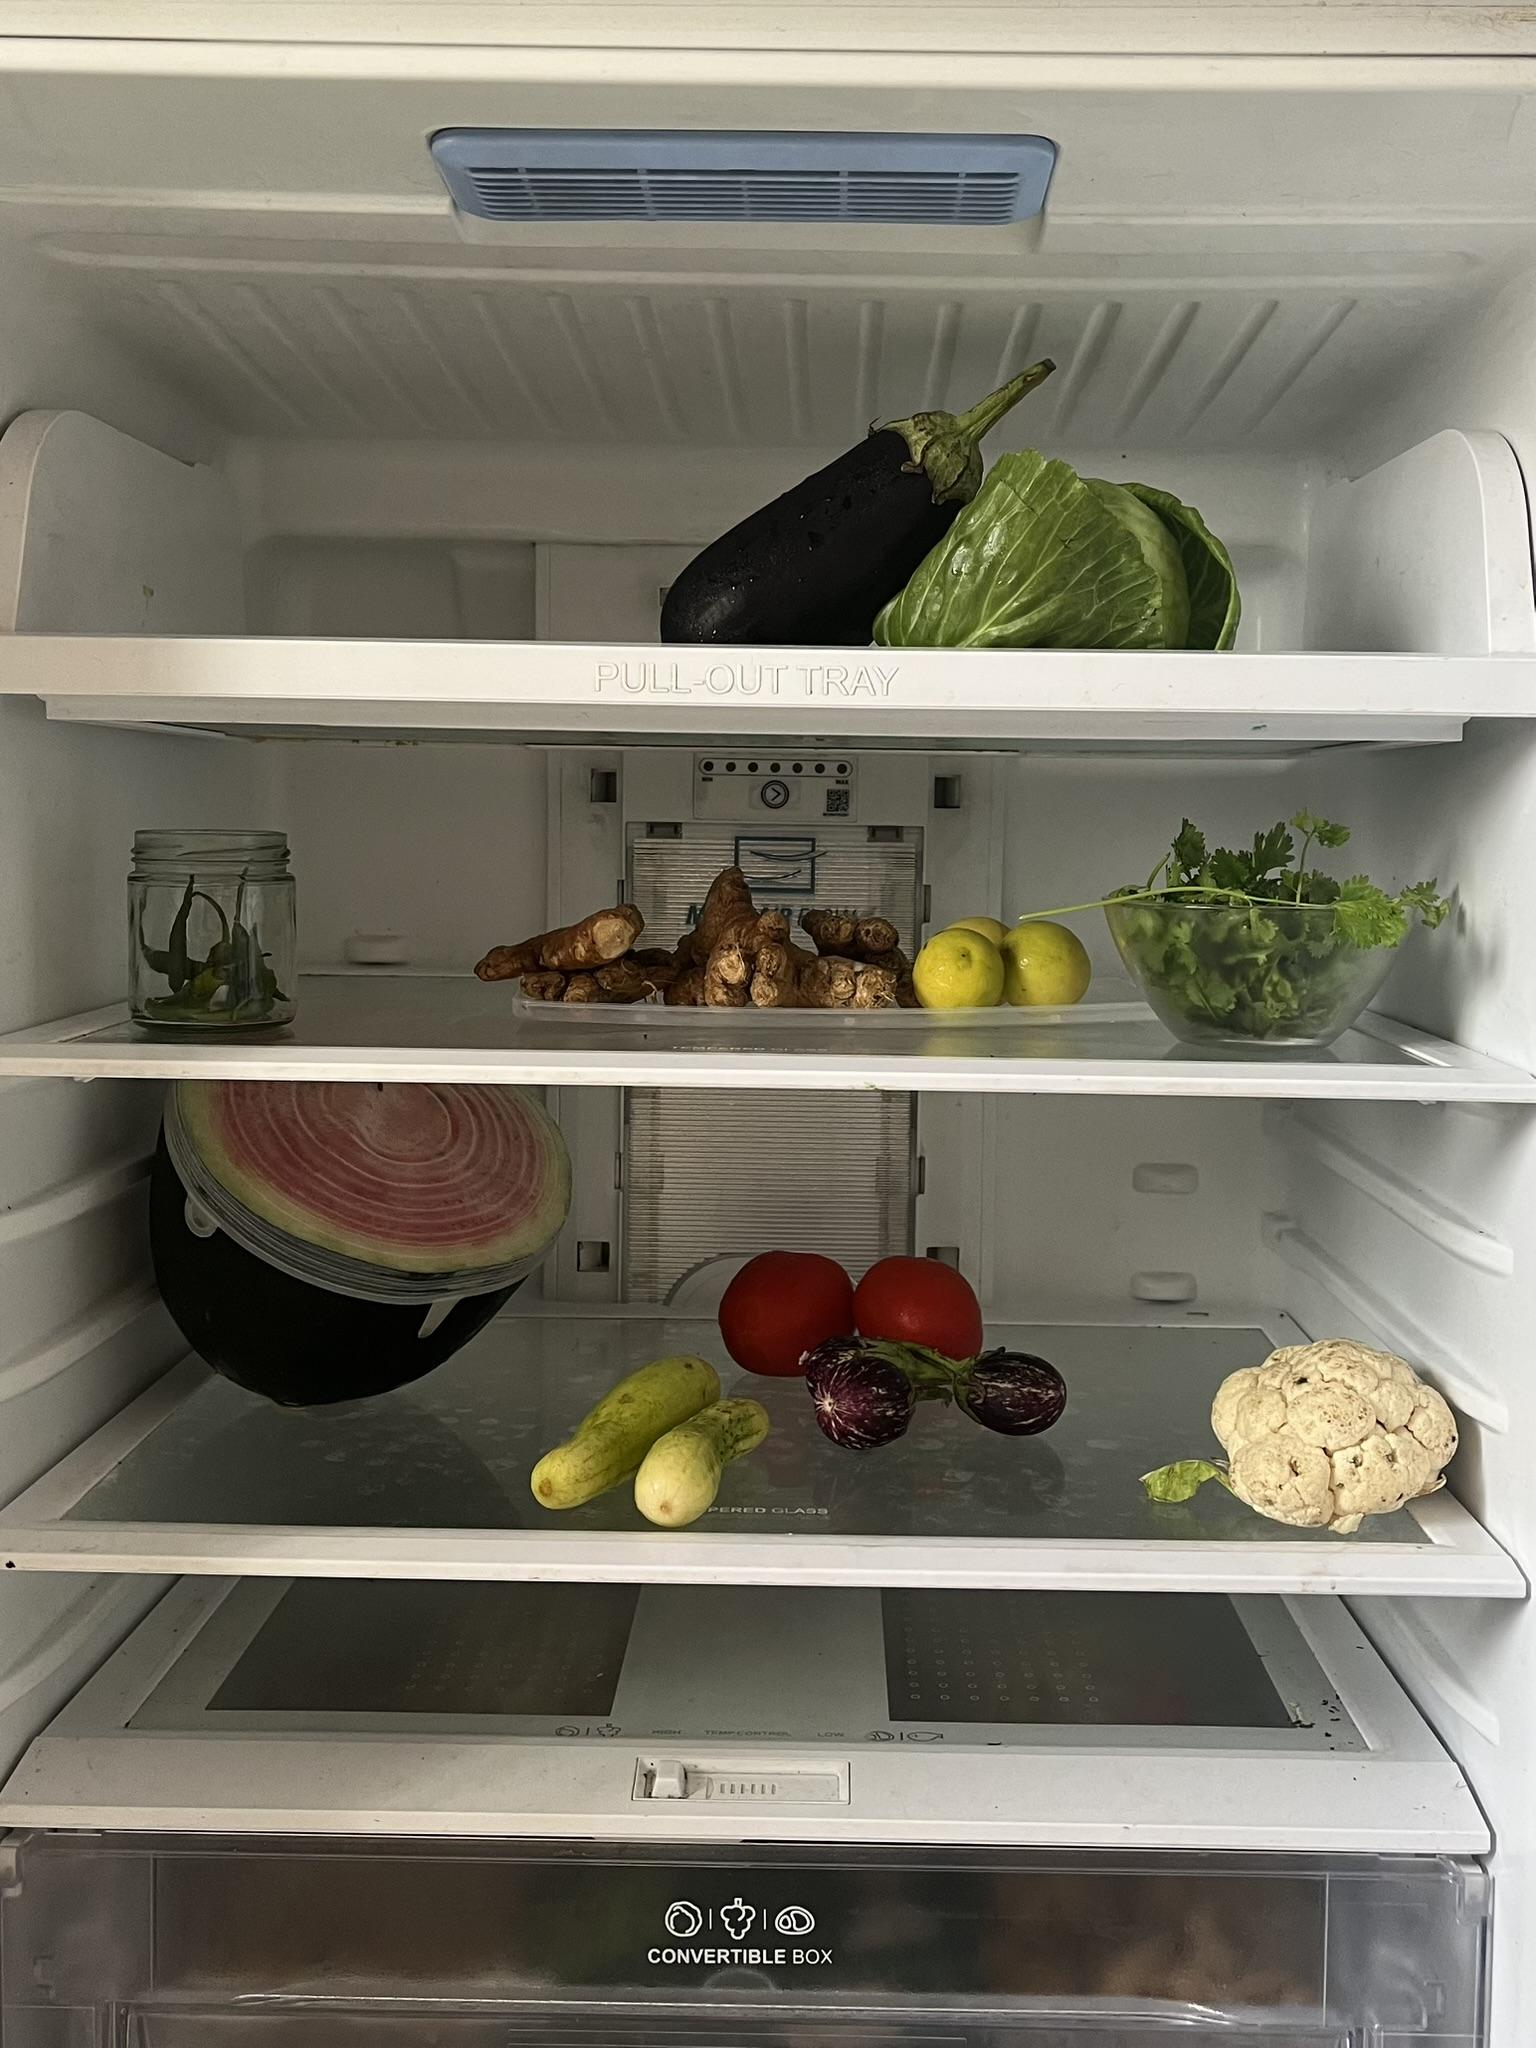bringal: (694, 347, 1050, 647), (820, 1337, 1073, 1434)
cabbage: (907, 477, 1229, 643)
cauliflower: (1217, 1343, 1470, 1530)
chillies: (131, 863, 281, 1037)
coriander: (1136, 813, 1436, 1047)
cucumber: (529, 1343, 770, 1521)
ginger: (476, 877, 913, 1006)
lemon: (910, 913, 1100, 1013)
tomato: (726, 1240, 976, 1374)
watermelon: (153, 1087, 557, 1413)
